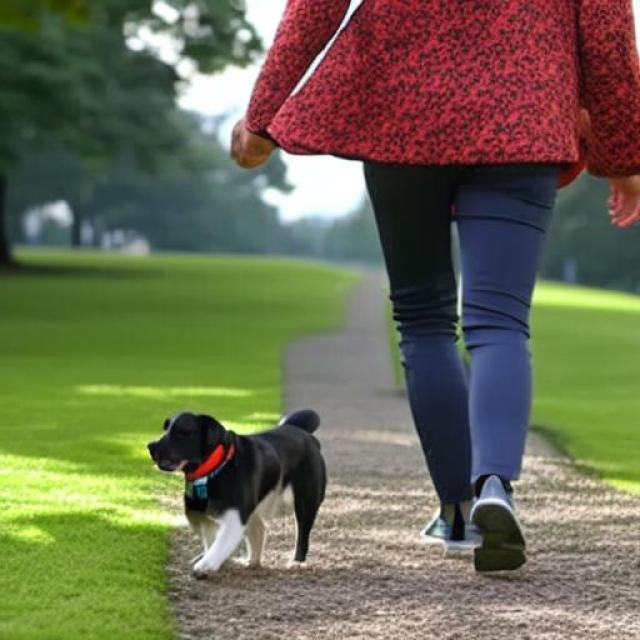Unleashed_Dog: (146, 90, 567, 579)
